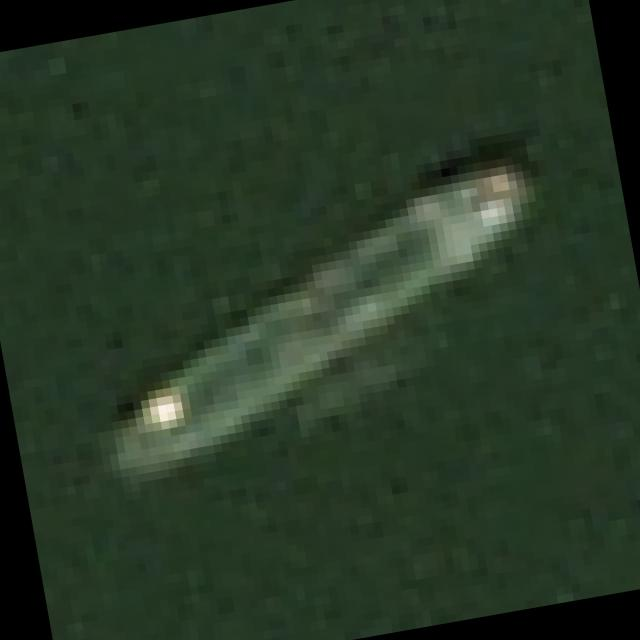ship: (24, 119, 612, 547)
